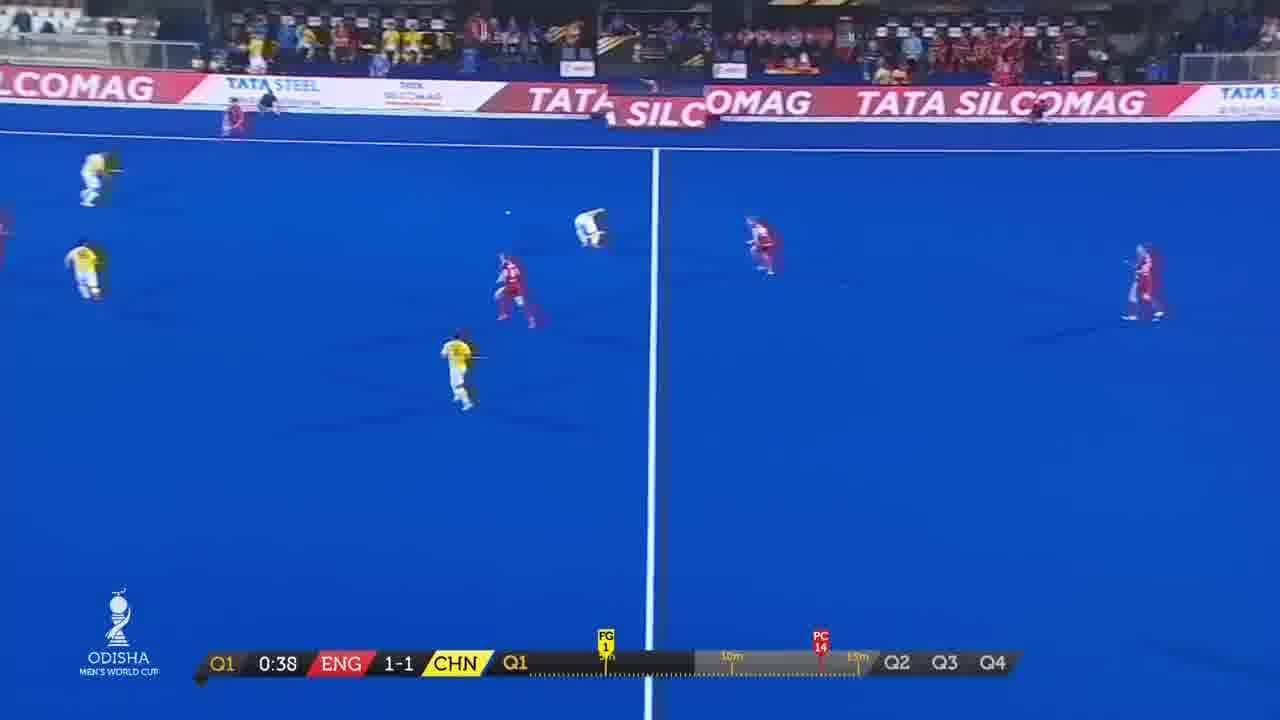ball: (499, 207, 514, 220)
